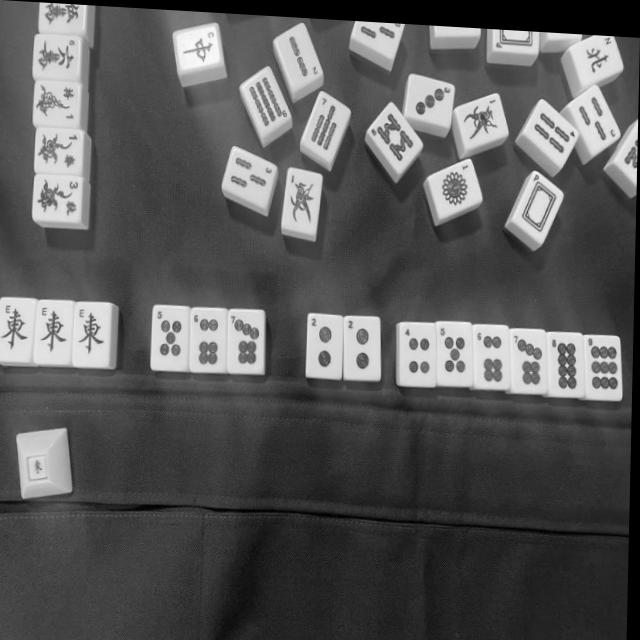east: (35, 303, 70, 358), (75, 305, 108, 358), (0, 300, 30, 354)
t2: (344, 317, 378, 376), (309, 315, 338, 373)
t4: (399, 324, 435, 380)
t5: (436, 324, 472, 381), (152, 307, 187, 361)
t6: (191, 311, 227, 369), (475, 329, 508, 384)
t7: (509, 332, 545, 388), (229, 312, 263, 371)
t8: (547, 334, 581, 393)
t9: (585, 335, 623, 394)
